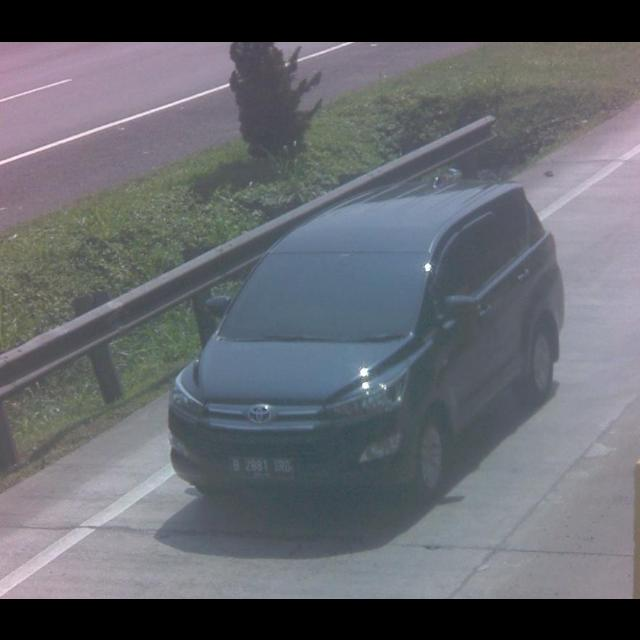plate: (228, 452, 298, 482)
